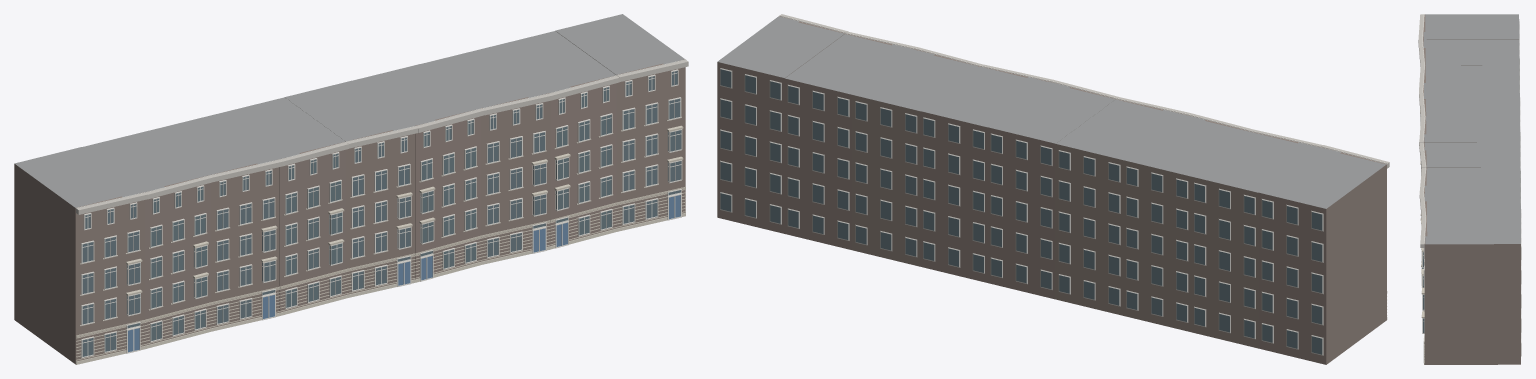
The model's file is chunk-face-afrikanerplein-25-55-r1.glb.
The picture shows the model from 3 angles, left to right: view 1: azimuth 30°, elevation 25°; view 2: azimuth 150°, elevation 25°; view 3: azimuth 270°, elevation 25°; orthographic projection. The views are drawn at different scales.
Visible parts, largest first — view 1: face-afrikanerplein-25-55-r1; view 2: face-afrikanerplein-25-55-r1; view 3: face-afrikanerplein-25-55-r1.
Part boxes in pixels (left/top/right/bottom): face-afrikanerplein-25-55-r1: left=14, top=14, right=688, bottom=364; face-afrikanerplein-25-55-r1: left=717, top=14, right=1389, bottom=364; face-afrikanerplein-25-55-r1: left=1418, top=14, right=1521, bottom=364.
Size of the model in its own units: 60.85 by 14.95 by 11.52.
